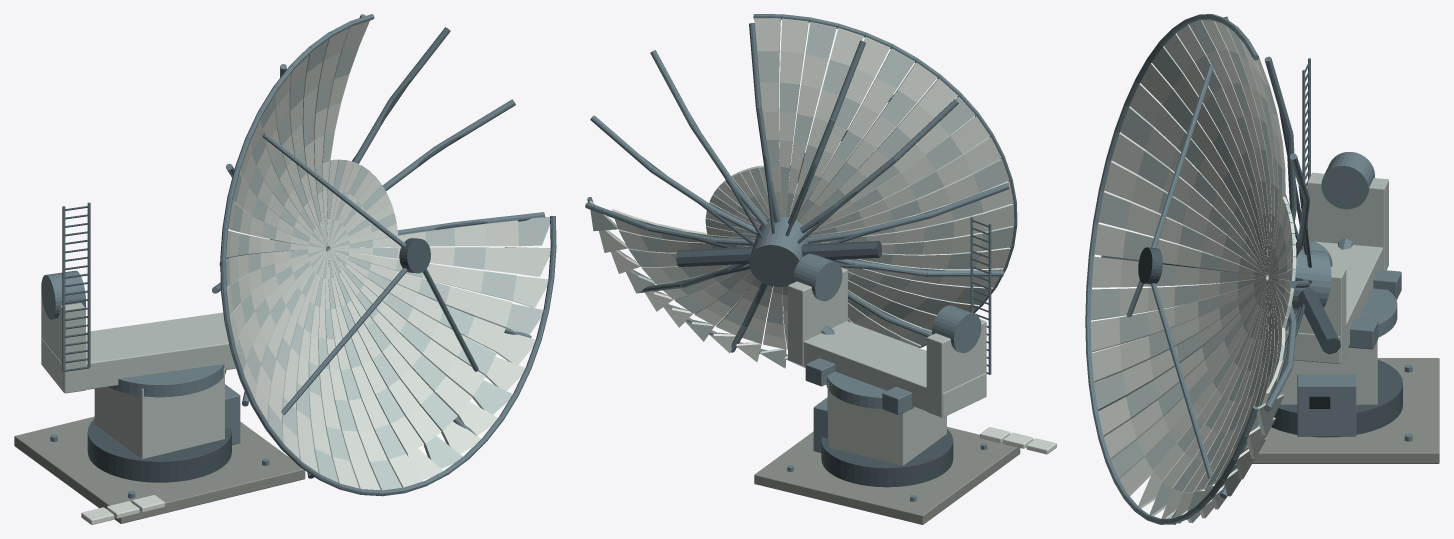
Rendered from skyward_medium_d3.glb.
3 renders of one model, left to right at view 1: azimuth 30°, elevation 25°; view 2: azimuth 150°, elevation 25°; view 3: azimuth 270°, elevation 25°, orthographic. The views are drawn at different scales.
Visible parts, largest first — view 1: Geometry_ELEVATION.007_Reflector / warm ceramic, Geometry_ELEVATION.007_Reflector / alternate panel, Geometry_ELEVATION.007_Structural frame / blue steel, Concrete octagonal pad.007, Geometry_AZIMUTH.007_Ceramic armor / limestone, Pedestal.007, Geometry_AZIMUTH.007_Structural frame / blue steel, Foundation bearing.007, Geometry_ELEVATION.007_Edge metal / graphite, Geometry_AZIMUTH.007_Edge metal / graphite, Geometry_ROOT.007_Reflector / warm ceramic, Geometry_ROOT.007_Structural frame / blue steel; view 2: Geometry_ELEVATION.007_Reflector / warm ceramic, Geometry_ELEVATION.007_Reflector / alternate panel, Geometry_ELEVATION.007_Structural frame / blue steel, Geometry_AZIMUTH.007_Ceramic armor / limestone, Concrete octagonal pad.007, Geometry_AZIMUTH.007_Structural frame / blue steel, Pedestal.007, Geometry_ELEVATION.007_Edge metal / graphite, Foundation bearing.007, Geometry_ROOT.007_Reflector / warm ceramic, Geometry_ROOT.007_Structural frame / blue steel, Geometry_AZIMUTH.007_Edge metal / graphite; view 3: Geometry_ELEVATION.007_Reflector / warm ceramic, Geometry_ELEVATION.007_Reflector / alternate panel, Geometry_ELEVATION.007_Structural frame / blue steel, Geometry_AZIMUTH.007_Ceramic armor / limestone, Concrete octagonal pad.007, Geometry_AZIMUTH.007_Structural frame / blue steel, Geometry_ROOT.007_Structural frame / blue steel, Geometry_ELEVATION.007_Edge metal / graphite, Foundation bearing.007, Pedestal.007.
Boxes of the visible parts, left/top/right/bottom form: Geometry_ELEVATION.007_Reflector / warm ceramic: left=226, top=20, right=550, bottom=490; Geometry_ELEVATION.007_Reflector / alternate panel: left=226, top=39, right=550, bottom=490; Geometry_ELEVATION.007_Structural frame / blue steel: left=212, top=14, right=556, bottom=496; Concrete octagonal pad.007: left=14, top=416, right=305, bottom=523; Geometry_AZIMUTH.007_Ceramic armor / limestone: left=41, top=283, right=235, bottom=393; Pedestal.007: left=94, top=368, right=224, bottom=458; Geometry_AZIMUTH.007_Structural frame / blue steel: left=41, top=202, right=226, bottom=397; Foundation bearing.007: left=87, top=419, right=231, bottom=482; Geometry_ELEVATION.007_Edge metal / graphite: left=219, top=77, right=487, bottom=316; Geometry_AZIMUTH.007_Edge metal / graphite: left=64, top=206, right=88, bottom=371; Geometry_ROOT.007_Reflector / warm ceramic: left=81, top=495, right=164, bottom=524; Geometry_ROOT.007_Structural frame / blue steel: left=50, top=384, right=269, bottom=498; Geometry_ELEVATION.007_Reflector / warm ceramic: left=599, top=18, right=1014, bottom=368; Geometry_ELEVATION.007_Reflector / alternate panel: left=589, top=22, right=1013, bottom=368; Geometry_ELEVATION.007_Structural frame / blue steel: left=585, top=14, right=1017, bottom=356; Geometry_AZIMUTH.007_Ceramic armor / limestone: left=788, top=267, right=986, bottom=417; Concrete octagonal pad.007: left=754, top=427, right=1020, bottom=524; Geometry_AZIMUTH.007_Structural frame / blue steel: left=793, top=216, right=991, bottom=414; Pedestal.007: left=827, top=383, right=946, bottom=465; Geometry_ELEVATION.007_Edge metal / graphite: left=635, top=116, right=944, bottom=320; Foundation bearing.007: left=821, top=429, right=953, bottom=487; Geometry_ROOT.007_Reflector / warm ceramic: left=980, top=427, right=1056, bottom=454; Geometry_ROOT.007_Structural frame / blue steel: left=787, top=397, right=987, bottom=501; Geometry_AZIMUTH.007_Edge metal / graphite: left=972, top=220, right=989, bottom=374; Geometry_ELEVATION.007_Reflector / warm ceramic: left=1090, top=20, right=1296, bottom=523; Geometry_ELEVATION.007_Reflector / alternate panel: left=1090, top=20, right=1295, bottom=523; Geometry_ELEVATION.007_Structural frame / blue steel: left=1085, top=14, right=1331, bottom=524; Geometry_AZIMUTH.007_Ceramic armor / limestone: left=1283, top=172, right=1388, bottom=363; Concrete octagonal pad.007: left=1235, top=358, right=1439, bottom=463; Geometry_AZIMUTH.007_Structural frame / blue steel: left=1302, top=58, right=1401, bottom=349; Geometry_ROOT.007_Structural frame / blue steel: left=1297, top=364, right=1412, bottom=441; Geometry_ELEVATION.007_Edge metal / graphite: left=1138, top=110, right=1340, bottom=378; Foundation bearing.007: left=1271, top=359, right=1402, bottom=437; Pedestal.007: left=1276, top=341, right=1377, bottom=404.
Bounding box in the file's own units: 21.16 × 17.87 × 12.57.
